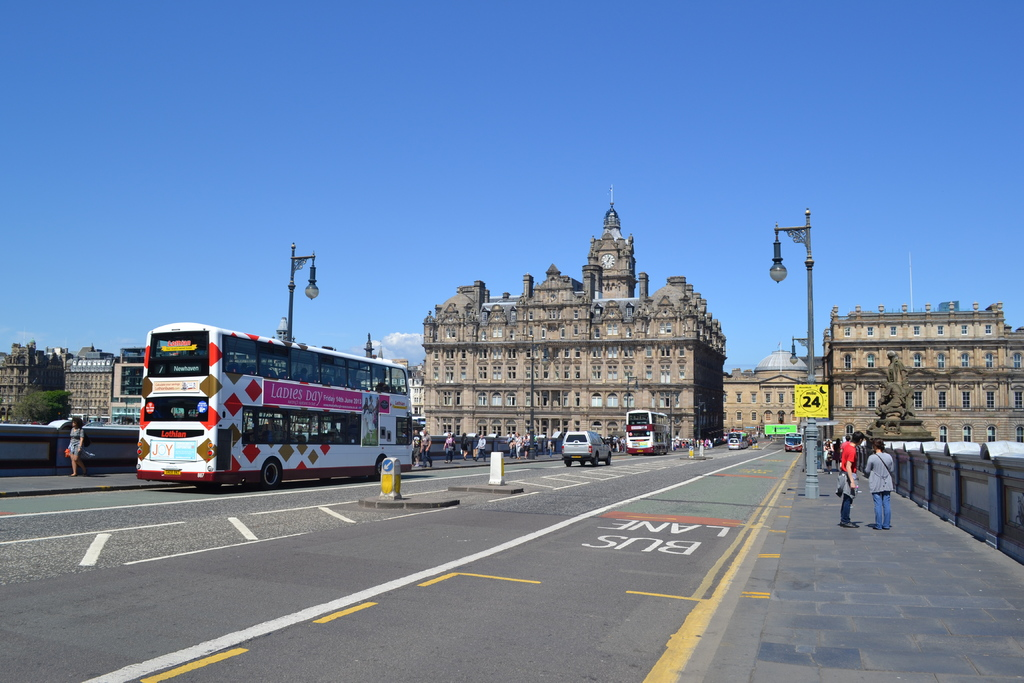Bus: (131, 322, 423, 495), (624, 406, 671, 452)
